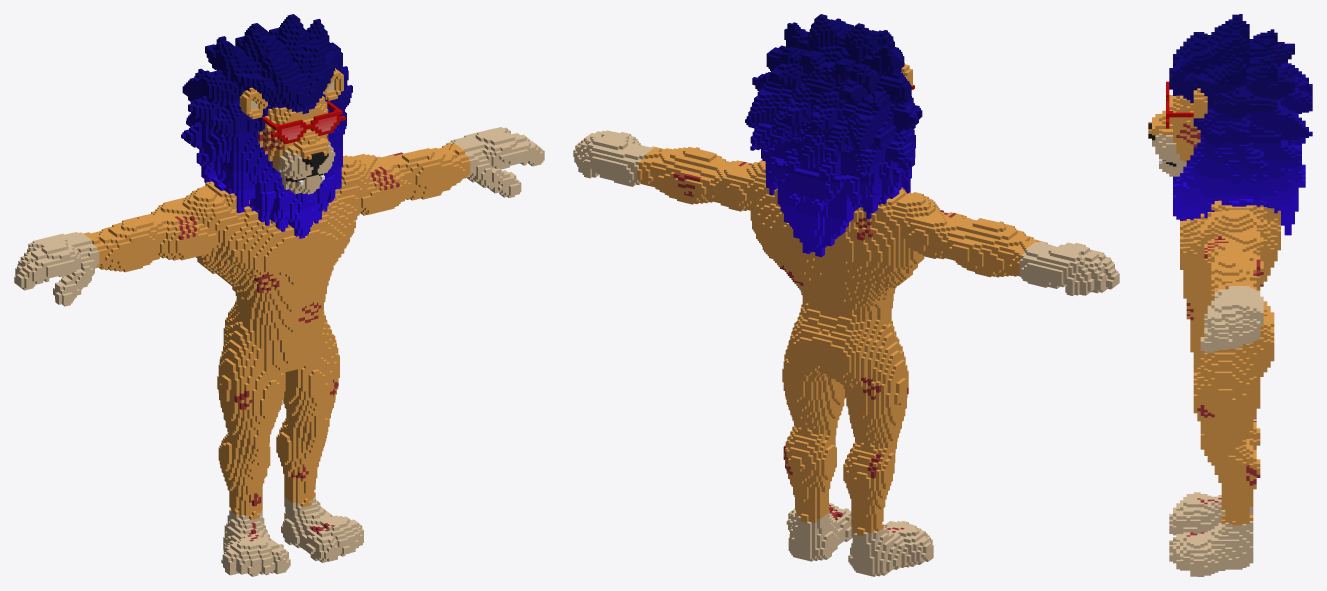
3 views of the same model, side by side, from view 1: azimuth 30°, elevation 25°; view 2: azimuth 150°, elevation 25°; view 3: azimuth 270°, elevation 25° (orthographic). The views are drawn at different scales.
Visible parts, largest first — view 1: standard; view 2: standard; view 3: standard.
Boxes of the visible parts, x1=… form: standard: x1=14, y1=14, x2=544, y2=576; standard: x1=573, y1=14, x2=1119, y2=576; standard: x1=1148, y1=14, x2=1312, y2=576.
Size of the model in its own units: 17.2 by 16.5 by 4.7.
Materials: 4 (4 with a texture image).
